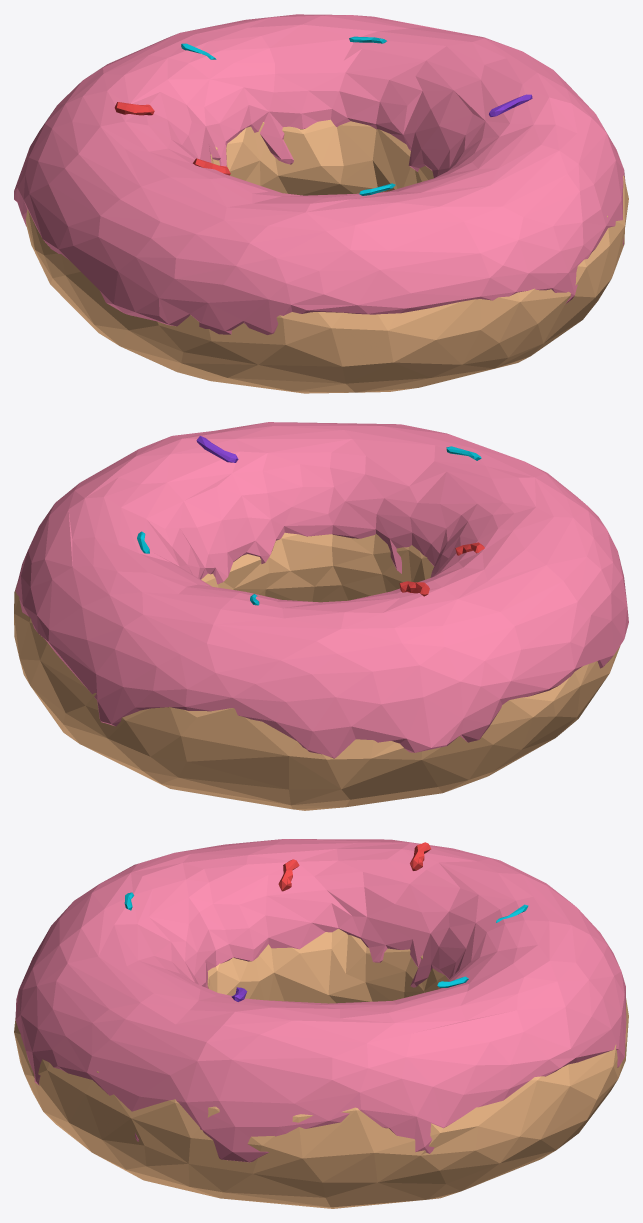
File: rosquinharosa.glb
3 renders of one model, top to bottom at view 1: azimuth 30°, elevation 25°; view 2: azimuth 150°, elevation 25°; view 3: azimuth 270°, elevation 25°, orthographic.
Visible parts, largest first — view 1: cobertura.001; view 2: cobertura.001; view 3: cobertura.001.
Part boxes in pixels (x1=…): cobertura.001: x1=14, y1=14, x2=628, y2=393; cobertura.001: x1=14, y1=422, x2=628, y2=810; cobertura.001: x1=14, y1=839, x2=628, y2=1208.
Bounding box in the file's own units: 0.1787 × 0.0654 × 0.1846.
